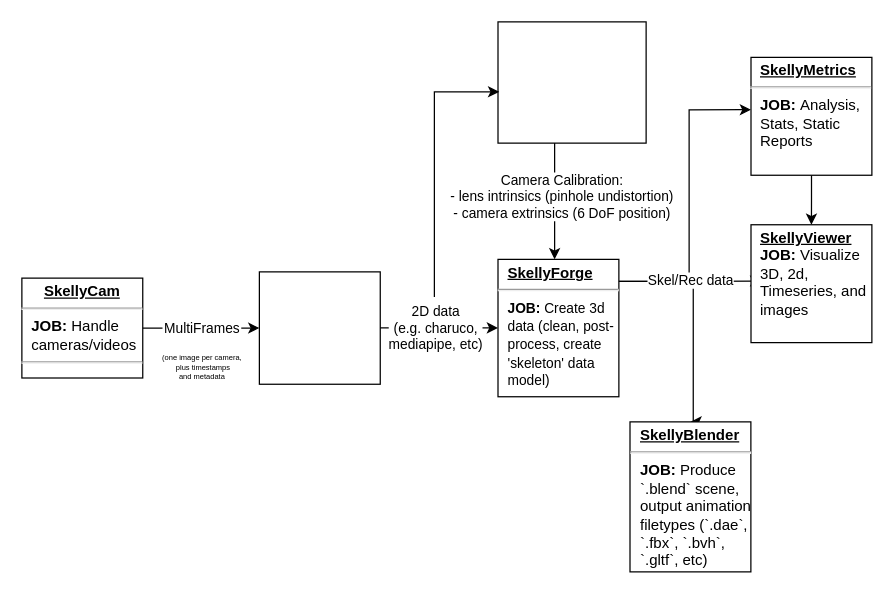
The diagram is 894 pixels wide and 594 high, and some of its shapes have lost their labels. The shapes that lost their labels are listed below. From the top down, each one's box as (x1, y1, x2, y2) in pixels, then its label:
(497, 21, 646, 143): SkellyCalibrate JOB: Calibrate cameras, create capture volume
(258, 271, 380, 384): SkellyTracker JOB: Image analysis & computer vision
